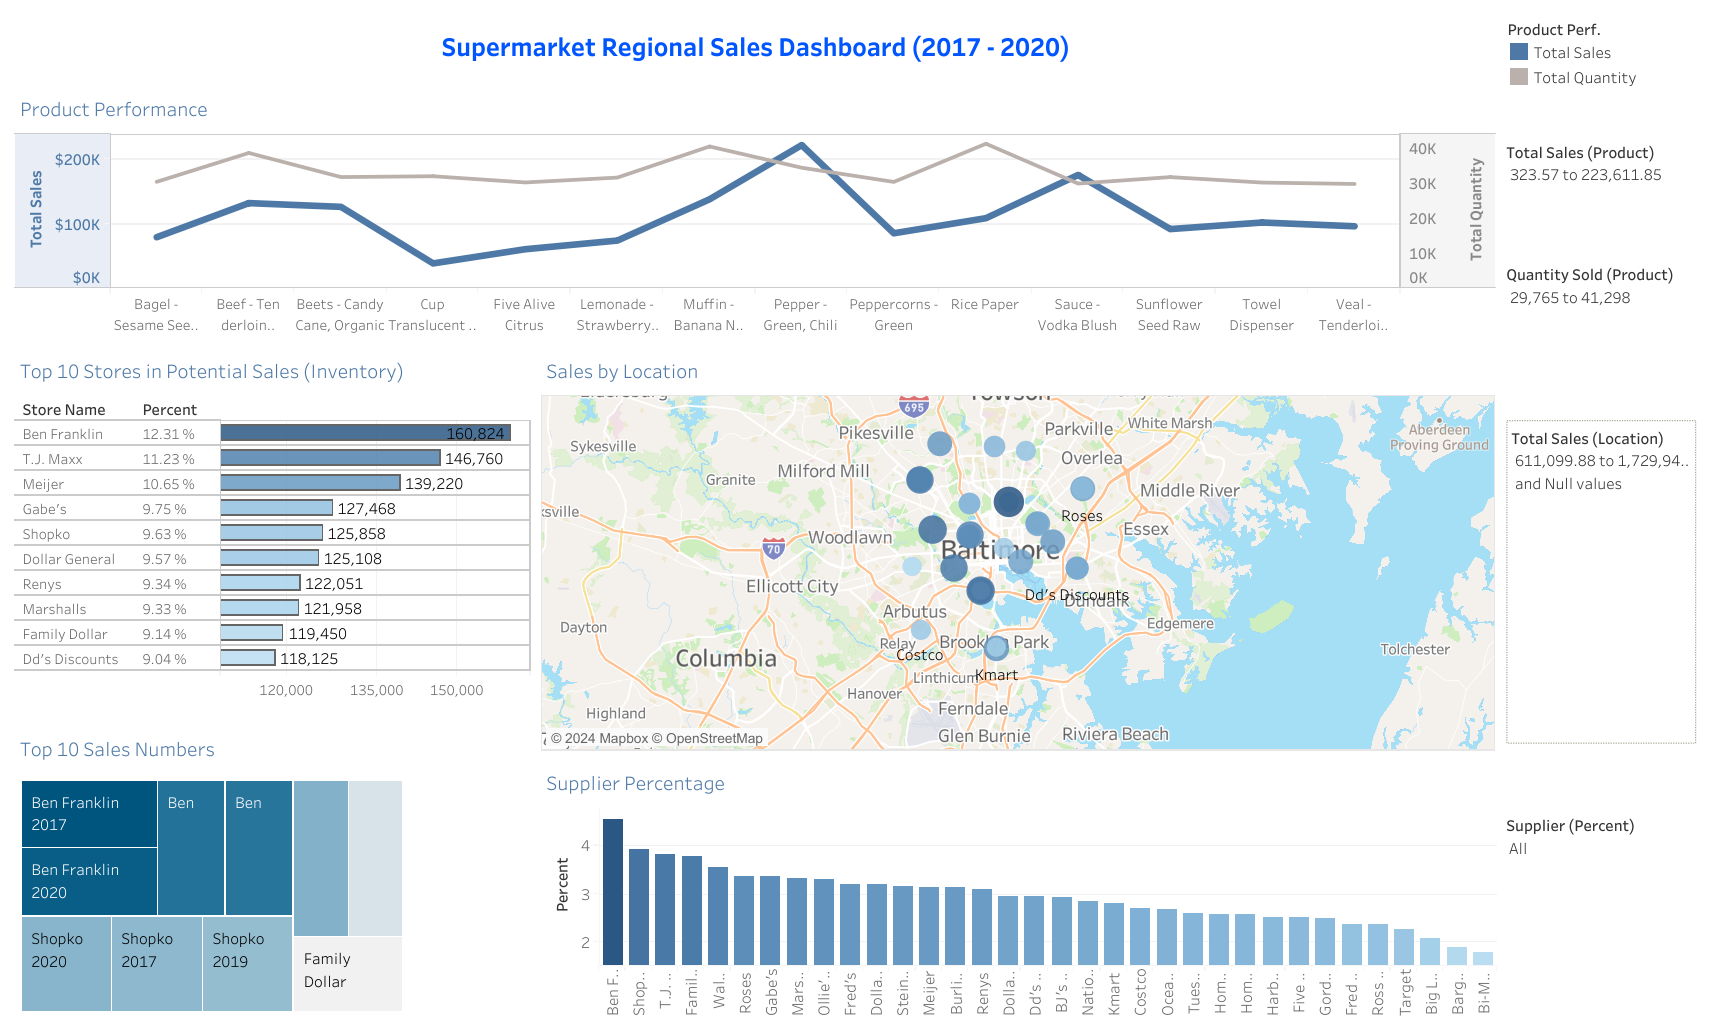

This screenshot's page, from the dashboard's own definition file:
{"tool":"tableau","page":{"name":"Supermarket Sales Dashboard","canvas":[1369,827],"ordinal":0},"visuals":[{"type":"text","box":[8,8,1193,58]},{"type":"legend","title":"Product Performance","param":"[federated.1ktkvj904tiww31d47so60quv1rb].[:Measure Names]","box":[1201,8,160,99]},{"type":"worksheet","title":"Product Performance","mark":"Line","rows":["total_sales","total_quantity"],"cols":["product_name"],"box":[8,66,1193,209]},{"type":"filter","title":"Product Performance","param":"[federated.1ktkvj904tiww31d47so60quv1rb].[sum:total_sales:qk]","box":[1201,107,160,98]},{"type":"filter","title":"Product Performance","param":"[federated.1ktkvj904tiww31d47so60quv1rb].[sum:total_quantity:qk]","box":[1201,205,160,127]},{"type":"worksheet","title":"Top 10 Potential","mark":"Automatic","rows":["store_name","percent"],"cols":["potential_sales"],"box":[8,275,421,303]},{"type":"worksheet","title":"Sales by Location","mark":"Automatic","box":[429,275,772,329.7]},{"type":"filter","title":"Sales by Location","param":"[federated.0v6bmwz111nsva18j9luh0hmipvd].[sum:total_sales:qk]","box":[1201,332,160,267]},{"type":"worksheet","title":"Top 10 Sales","mark":"Automatic","box":[8,578,421,241]},{"type":"worksheet","title":"Supplier Percentage","mark":"Automatic","rows":["percent"],"cols":["supplier"],"box":[429,604.7,772,214.3]},{"type":"filter","title":"Supplier Percentage","param":"[federated.18t2ait0u76iwl10zmq3p12pb7qn].[none:supplier:nk]","box":[1201,646,160,101]}]}

Visuals, with their boxes in screenshot pixels (x1, y1, x2, y2), scaled from the page's 1369x827 canvas onto the 1710x1033 screenshot:
text: {"x1": 10, "y1": 10, "x2": 1500, "y2": 82}
"Product Performance" legend: {"x1": 1500, "y1": 10, "x2": 1700, "y2": 134}
"Product Performance" worksheet (Line marks): {"x1": 10, "y1": 82, "x2": 1500, "y2": 344}
"Product Performance" filter: {"x1": 1500, "y1": 134, "x2": 1700, "y2": 256}
"Product Performance" filter: {"x1": 1500, "y1": 256, "x2": 1700, "y2": 415}
"Top 10 Potential" worksheet: {"x1": 10, "y1": 344, "x2": 536, "y2": 722}
"Sales by Location" worksheet: {"x1": 536, "y1": 344, "x2": 1500, "y2": 755}
"Sales by Location" filter: {"x1": 1500, "y1": 415, "x2": 1700, "y2": 748}
"Top 10 Sales" worksheet: {"x1": 10, "y1": 722, "x2": 536, "y2": 1023}
"Supplier Percentage" worksheet: {"x1": 536, "y1": 755, "x2": 1500, "y2": 1023}
"Supplier Percentage" filter: {"x1": 1500, "y1": 807, "x2": 1700, "y2": 933}
